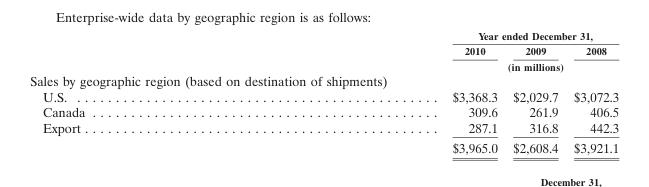table: (29, 28, 618, 155)
table column: (29, 28, 268, 155), (268, 28, 504, 155), (504, 28, 565, 155), (565, 28, 618, 155)
table column header: (29, 28, 618, 72)
table projected row header: (29, 72, 618, 88)
table row: (29, 119, 618, 137), (29, 137, 618, 155), (29, 42, 618, 58), (29, 72, 618, 88), (29, 103, 618, 119), (29, 88, 618, 103), (29, 28, 618, 42), (29, 58, 618, 72)
table spanning cell: (268, 28, 618, 42), (268, 58, 618, 72)
